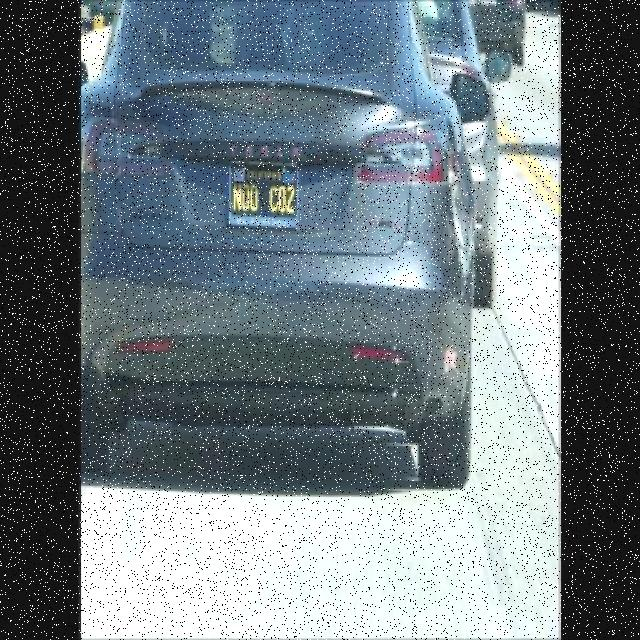licenseplate: (228, 154, 301, 229)
